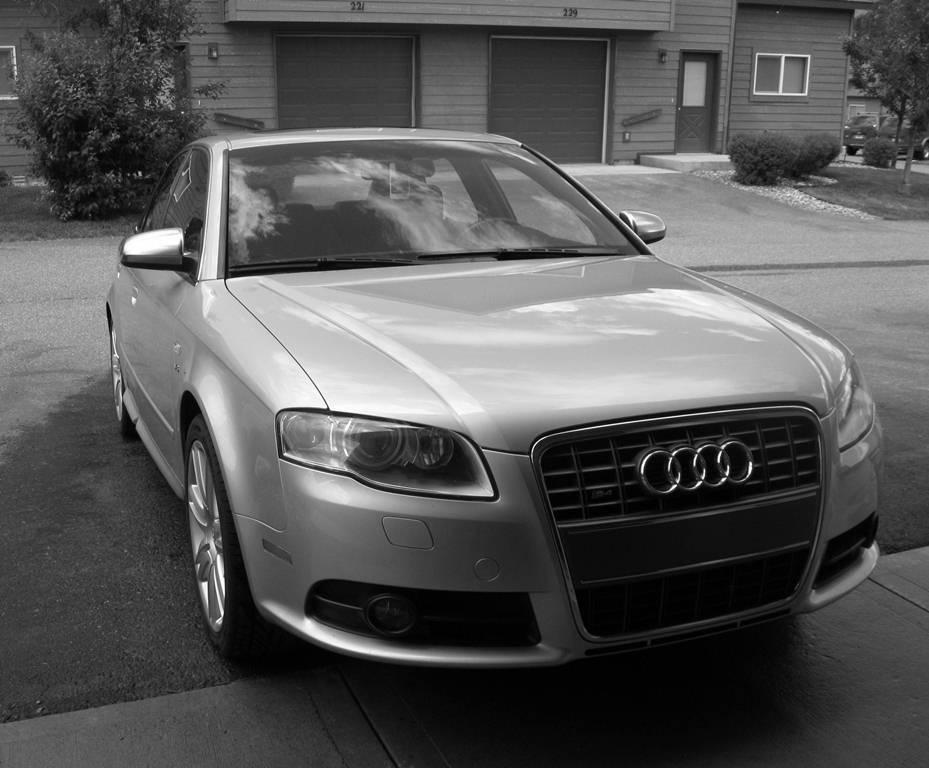car: (97, 126, 898, 702)
